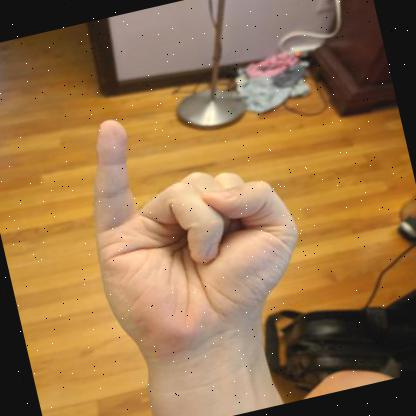I: (94, 120, 298, 367)
